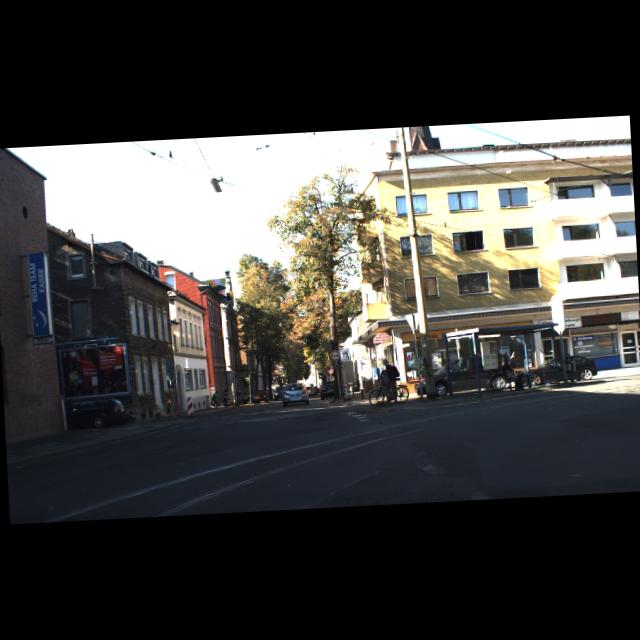prohibitory: (330, 350, 340, 361)
